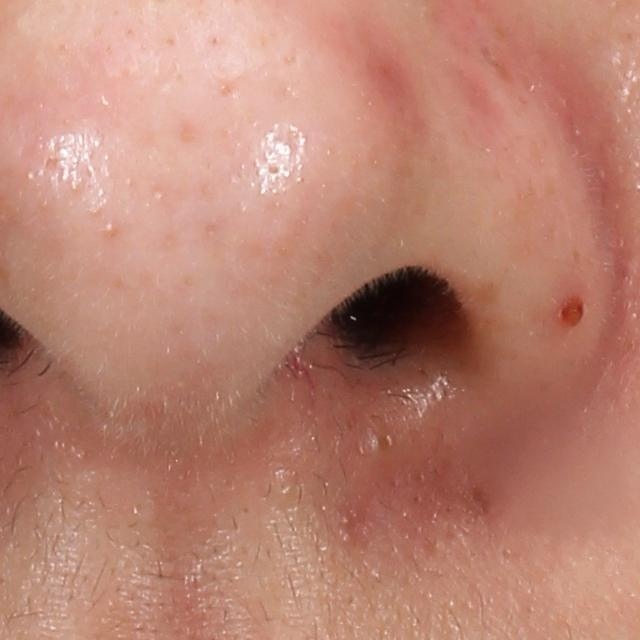comedo: (368, 426, 400, 456), (102, 219, 120, 238)
other: (555, 292, 592, 330)
